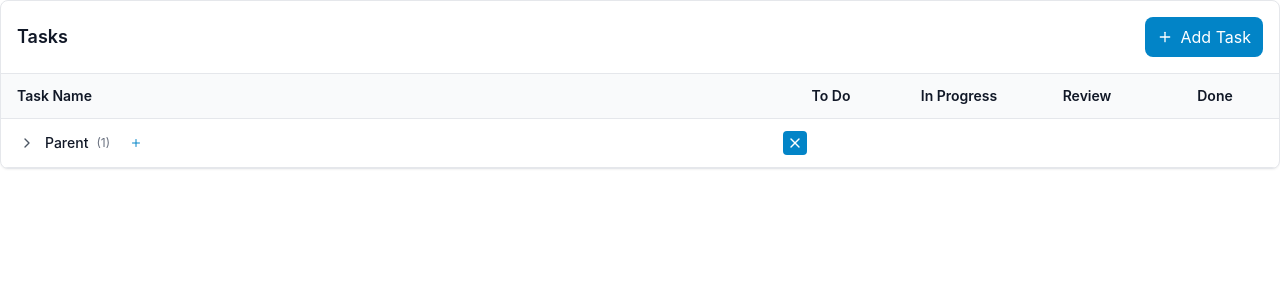
Test case: TaskListView add sub-task at any depth (item 2) › offers an Add sub-task control on nested rows, not just the top level
Check: the number of buttons titled "Add sub-task" is 1, box x1=126 y1=133 x2=146 y2=153
Click the 2nd button. click: (27, 143)
box: x1=17 y1=133 x2=37 y2=153
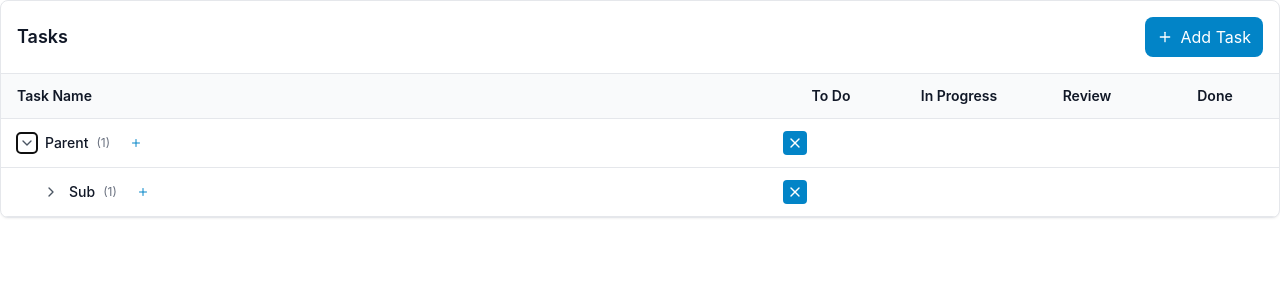
Click the button without text next to "Sub". click: (51, 192)
box: x1=41 y1=182 x2=61 y2=202
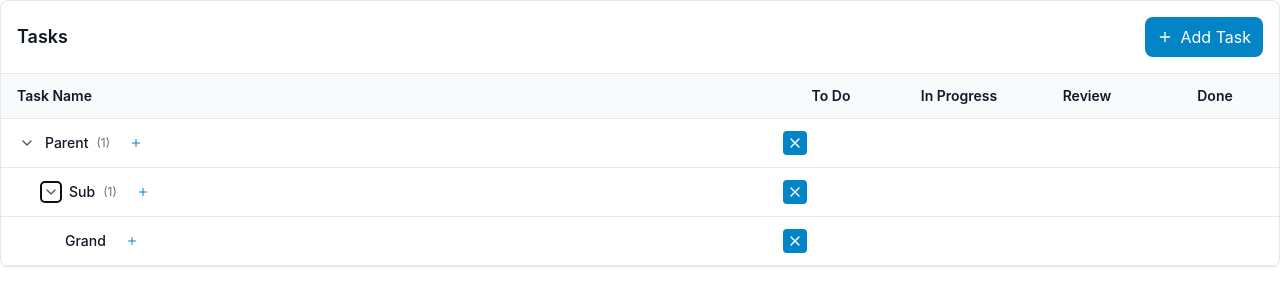
Check: the number of buttons titled "Add sub-task" is 3, box x1=126 y1=133 x2=146 y2=153; x1=133 y1=182 x2=153 y2=202; x1=122 y1=231 x2=142 y2=251
